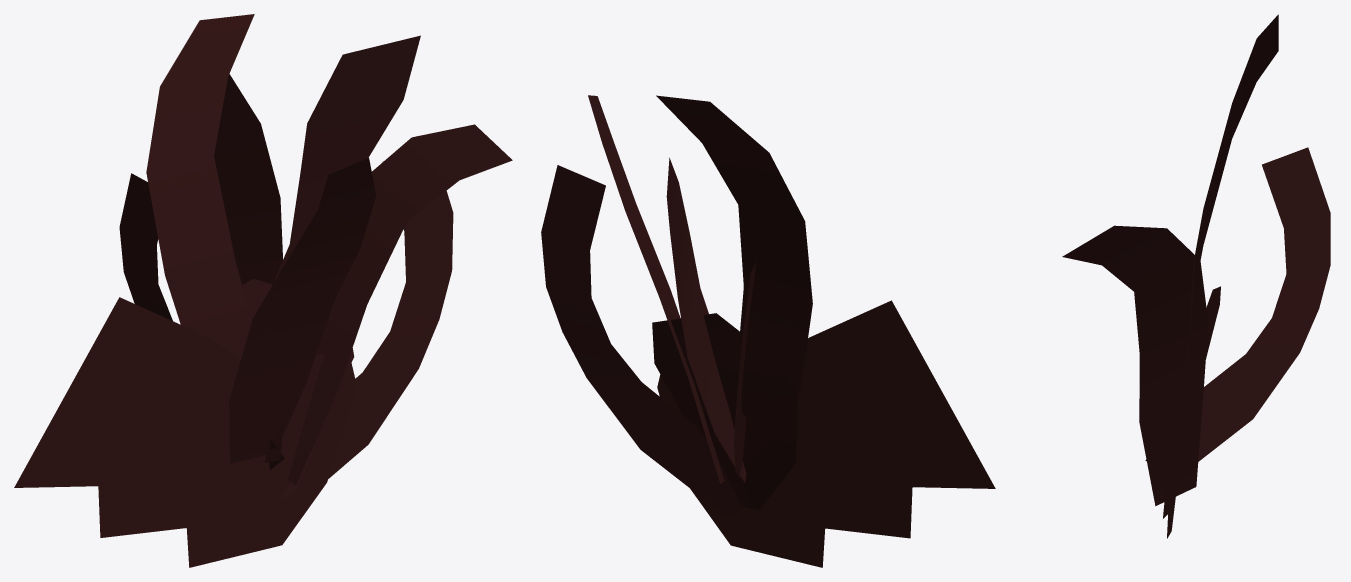
Rendered from SM_ocean_scatterPlant_03_A.fbx.
3 views of the same model, side by side, from view 1: azimuth 30°, elevation 25°; view 2: azimuth 150°, elevation 25°; view 3: azimuth 270°, elevation 25° (orthographic). The views are drawn at different scales.
Visible parts, largest first — view 1: SM_ocean_scatterPlant_03_A_LOD0; view 2: SM_ocean_scatterPlant_03_A_LOD0; view 3: SM_ocean_scatterPlant_03_A_LOD0.
Part boxes in pixels (x1,y1,x2,y2): SM_ocean_scatterPlant_03_A_LOD0: (14,14,512,567); SM_ocean_scatterPlant_03_A_LOD0: (541,95,995,567); SM_ocean_scatterPlant_03_A_LOD0: (1062,14,1330,538).
Size of what is drawn, in the model's own units: 48.98 by 27.03 by 51.35.
